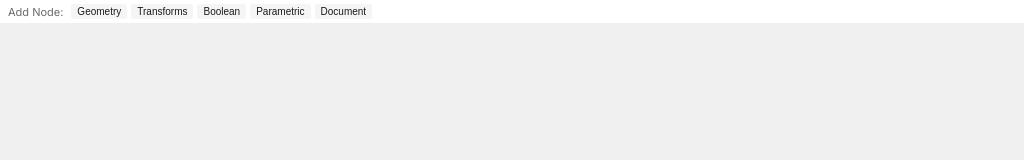
Test case: T-EXT-02: GraphPanel › palette lists parametric nodes
The width and height of the screenshot is (1024, 160).
Click the button "parametric" at (280, 12), box [250, 4, 311, 19]
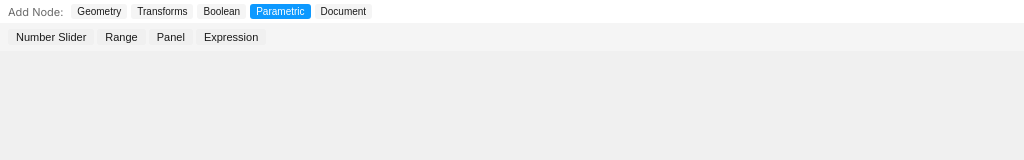
Now the option "Number Slider" is shown, box [8, 29, 94, 45]
Now the option "Expression" is shown, box [196, 29, 266, 45]
